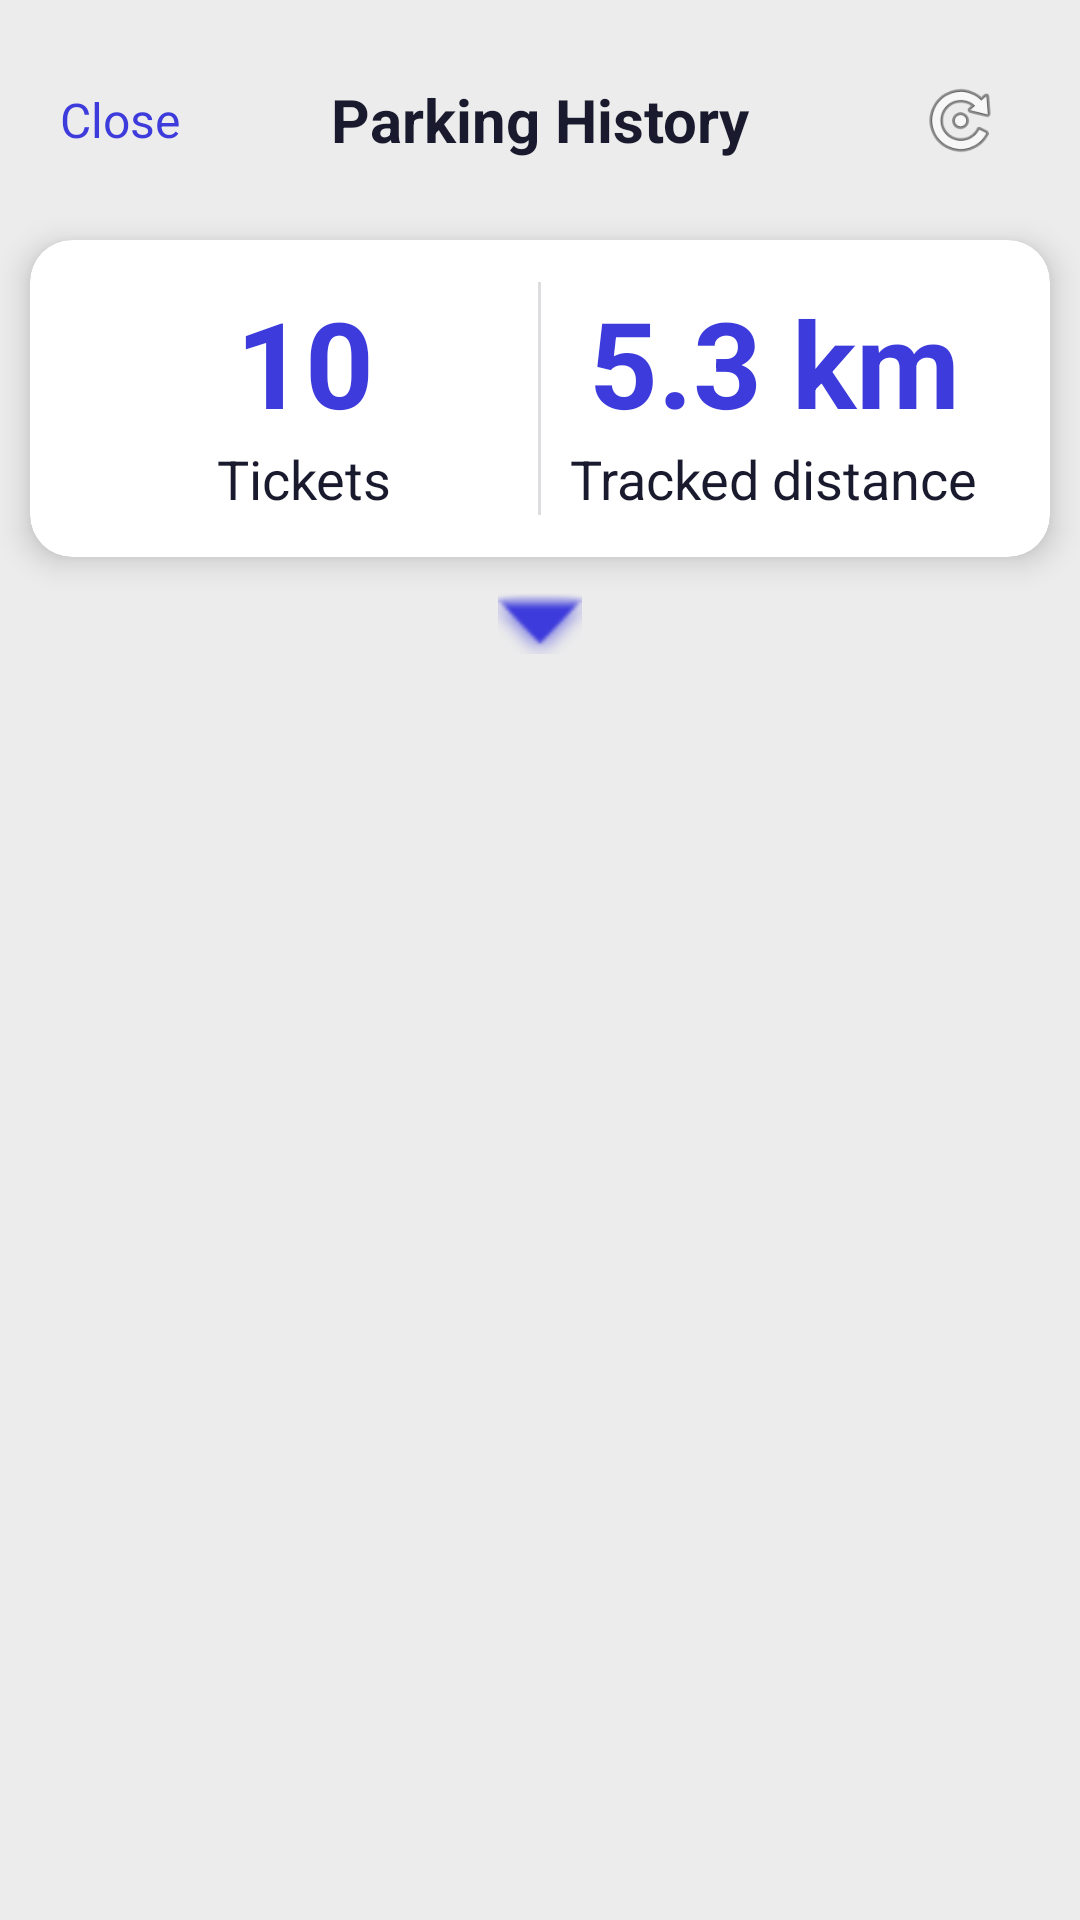

Icons on this 1080*1920 Android screen, each with the point to tap as (x,y):
arrow down float: (540,622)
Refresh: (960,120)
